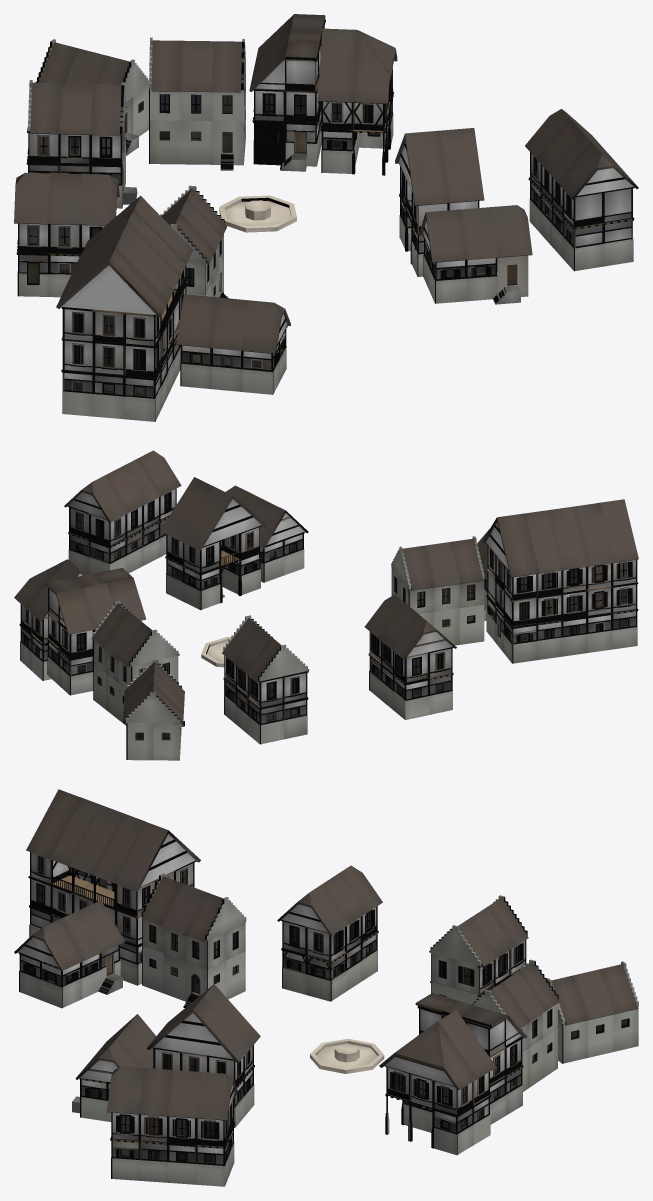
File: City_houses.fbx
3 renders of one model, top to bottom at view 1: azimuth 30°, elevation 25°; view 2: azimuth 150°, elevation 25°; view 3: azimuth 270°, elevation 25°, orthographic. The views are drawn at different scales.
Visible parts, largest first — view 1: City_houses_Baked; view 2: City_houses_Baked; view 3: City_houses_Baked.
Boxes of the visible parts, x1=… form: City_houses_Baked: x1=14, y1=14, x2=638, y2=421; City_houses_Baked: x1=14, y1=450, x2=638, y2=760; City_houses_Baked: x1=14, y1=789, x2=638, y2=1186.
Bounding box in the file's own units: 5626 × 1378 × 5452.
Materials: 1 (1 with a texture image).
